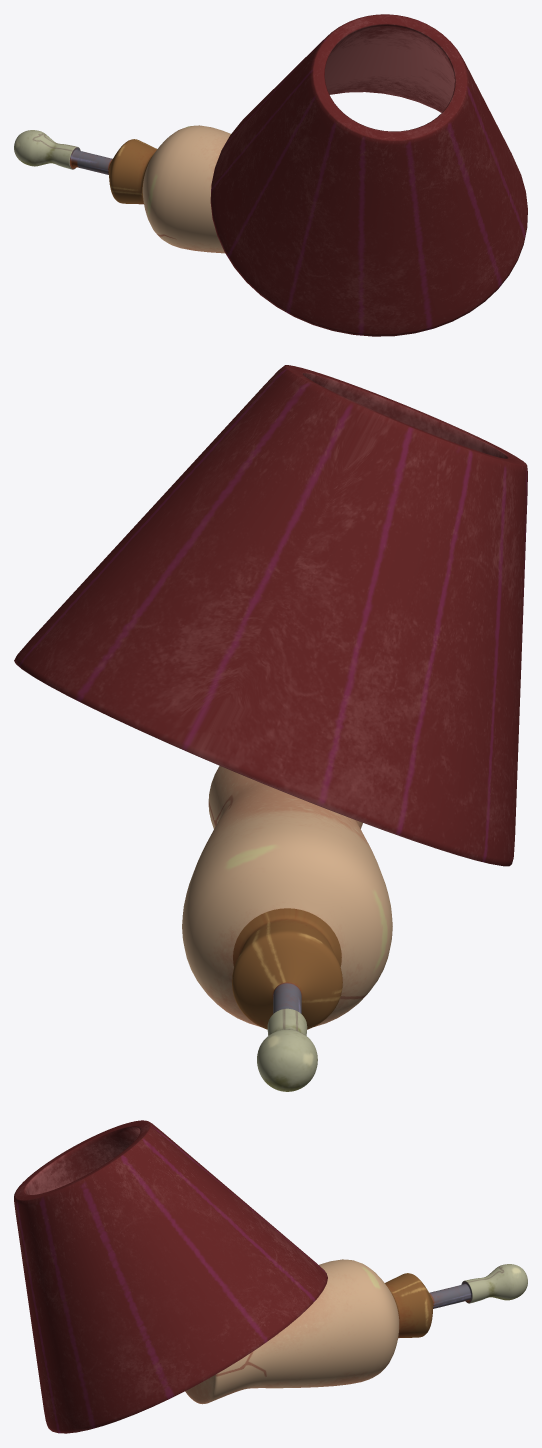
Rendered from BrokenLamp_Textured.fbx.
The picture shows the model from 3 angles, top to bottom: view 1: azimuth 30°, elevation 25°; view 2: azimuth 150°, elevation 25°; view 3: azimuth 270°, elevation 25°; orthographic projection. The views are drawn at different scales.
Parts seen in each view (by area): view 1: bl_02, bl_01; view 2: bl_02, bl_01; view 3: bl_02, bl_01.
Part boxes in pixels (x1,y1,x2,y2): bl_02: (210,14,527,336); bl_01: (14,125,230,253); bl_02: (14,365,527,866); bl_01: (182,766,392,1091); bl_02: (14,1120,327,1433); bl_01: (185,1259,527,1404).
Bounding box in the file's own units: 1.32 × 1.09 × 1.8.
1 material, 1 textured.
